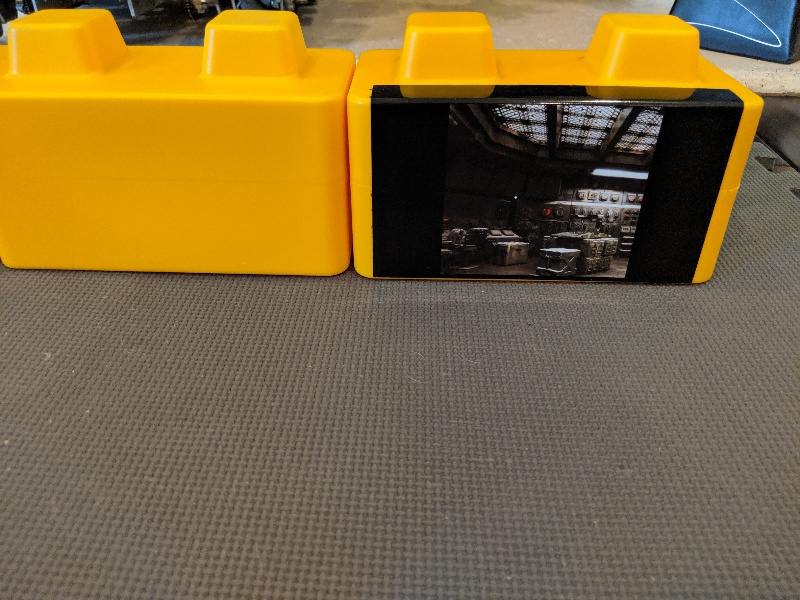Skystone: (358, 77, 747, 295)
